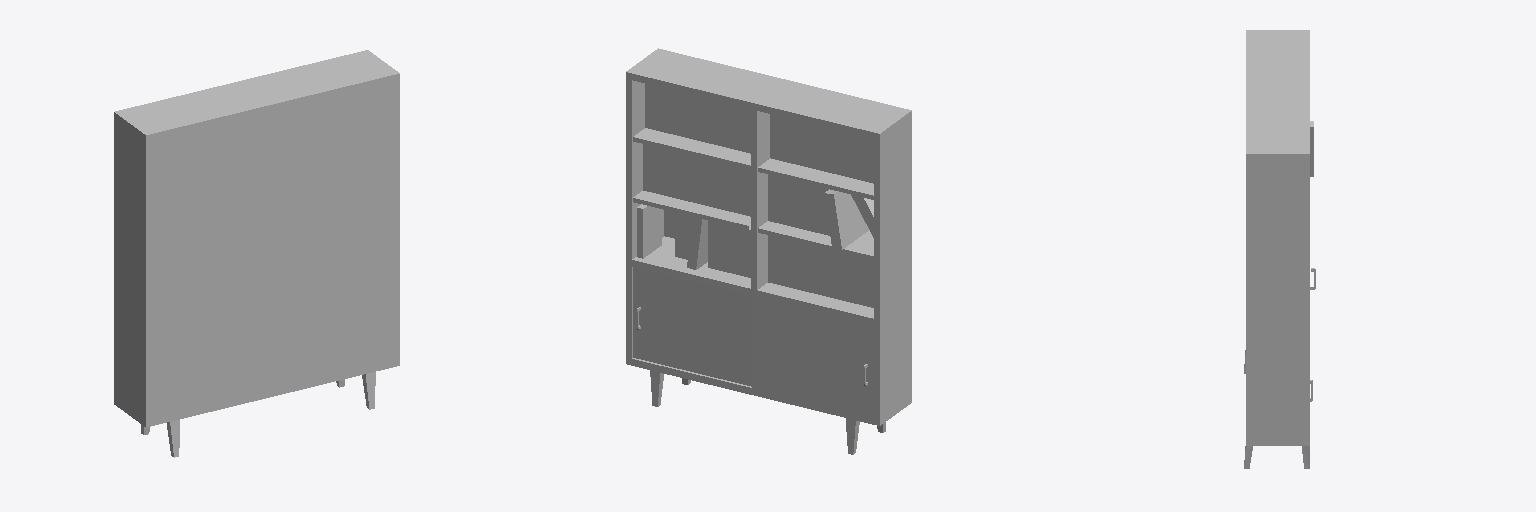
The model's file is Bookshelf09.obj.
3 renders of one model, left to right at view 1: azimuth 30°, elevation 25°; view 2: azimuth 150°, elevation 25°; view 3: azimuth 270°, elevation 25°, orthographic.
Parts seen in each view (by area): view 1: Bookshelf09_LOD0_Bookshelf09.001; view 2: Bookshelf09_LOD0_Bookshelf09.001; view 3: Bookshelf09_LOD0_Bookshelf09.001.
Boxes of the visible parts, <box> form: Bookshelf09_LOD0_Bookshelf09.001: <box>114,50,399,457</box>; Bookshelf09_LOD0_Bookshelf09.001: <box>626,48,911,454</box>; Bookshelf09_LOD0_Bookshelf09.001: <box>1244,30,1315,468</box>.
Bounding box in the file's own units: 1.41 × 1.74 × 0.346.